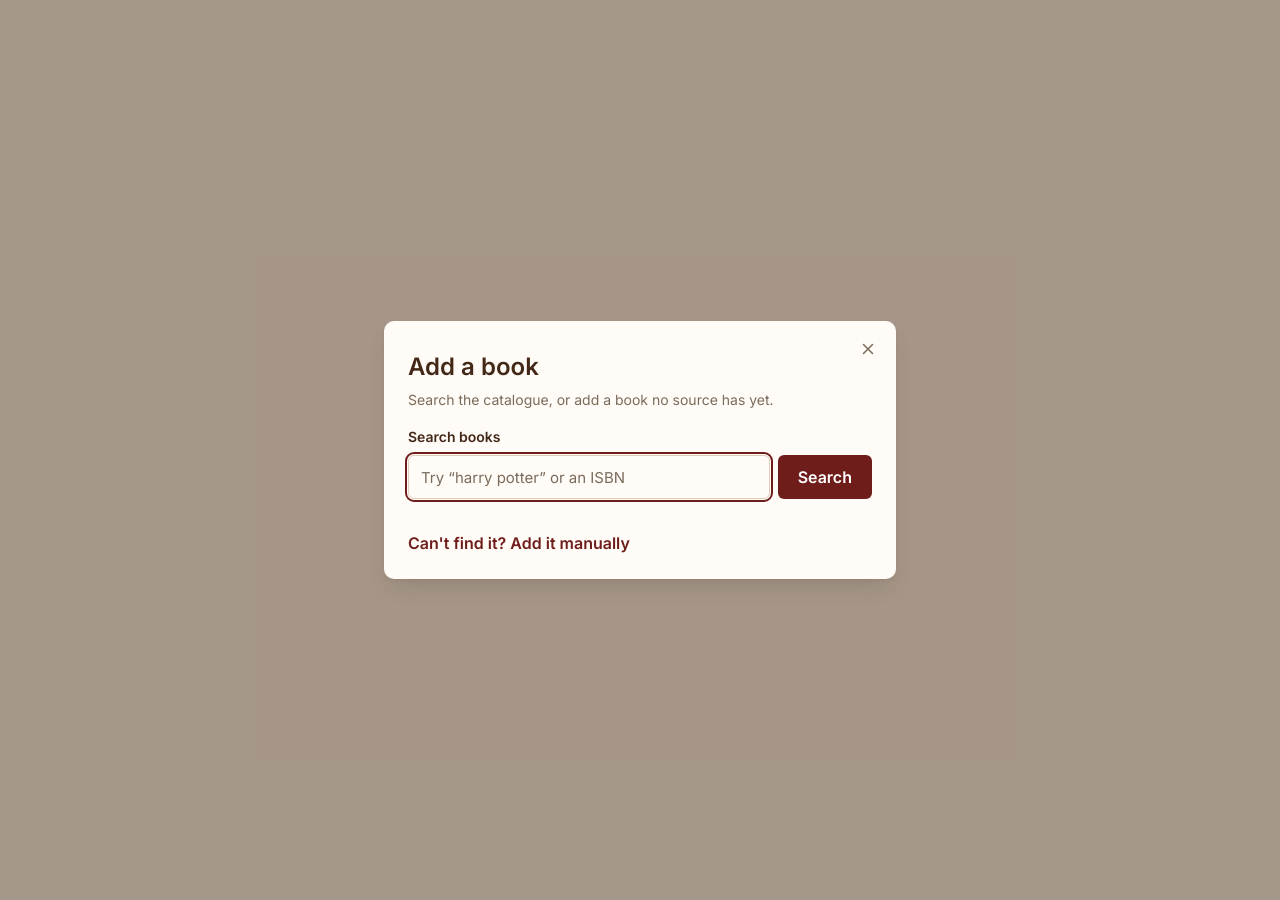
Test case: AddBookModal › opens the manual form without a search
The width and height of the screenshot is (1280, 900).
Click the button with class "manual-link".
click(519, 543)  # box [408,531,630,555]
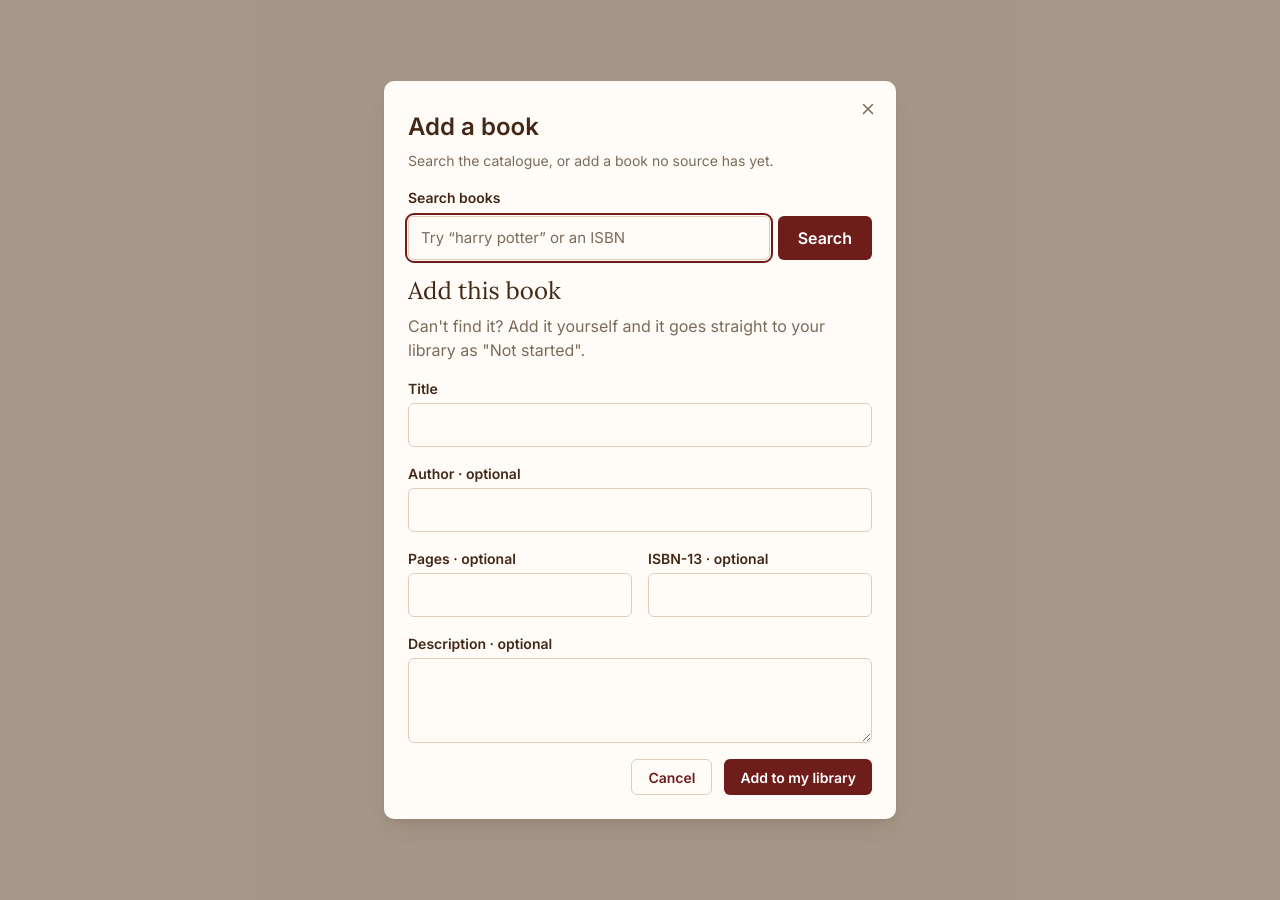
expect the field with id "add-book-title-input" is shown: met, box [408,403,872,447]
